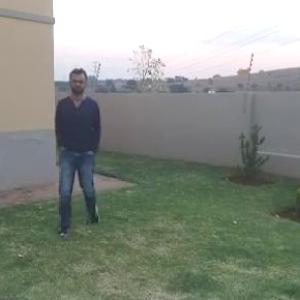follow: (49, 64, 104, 225)
